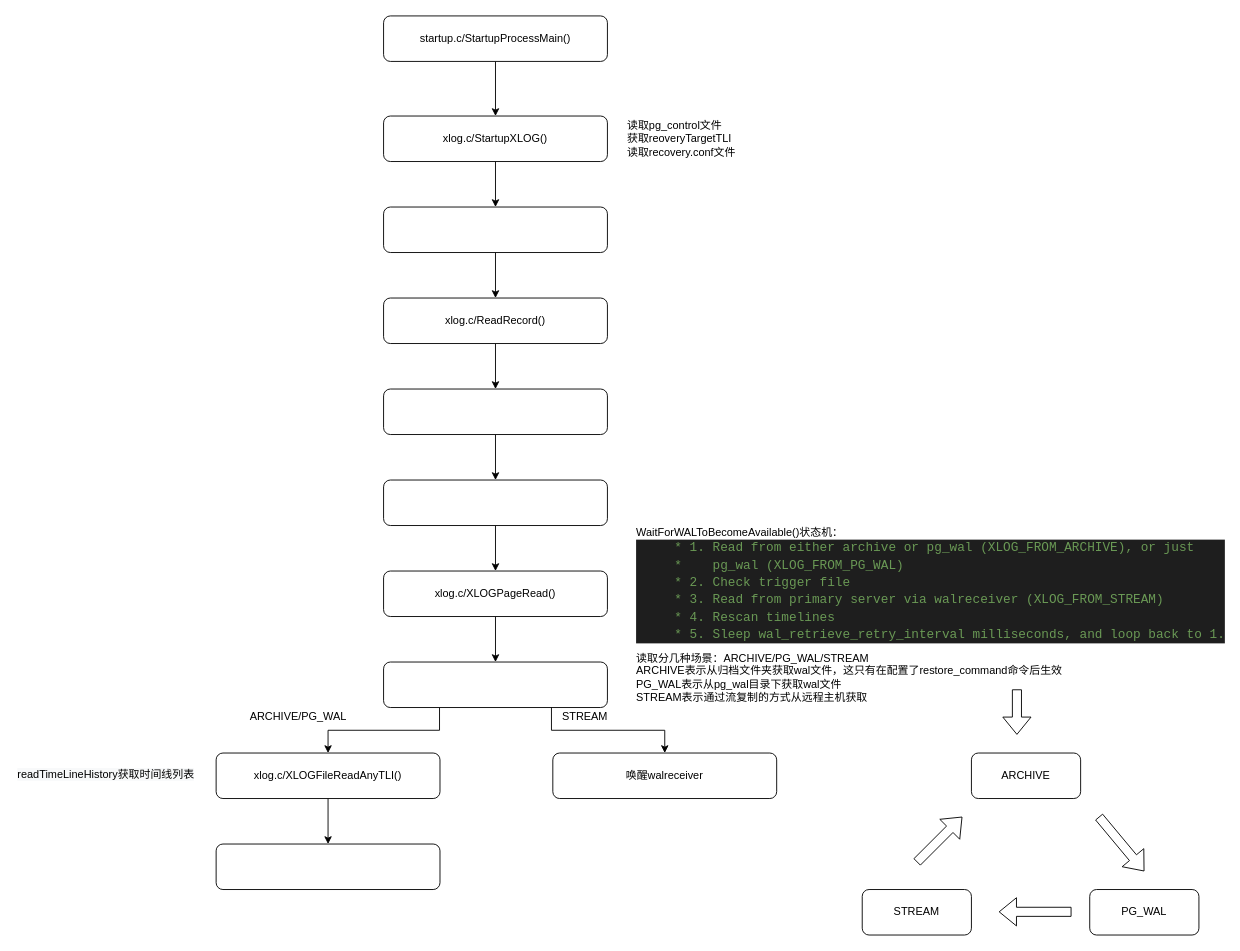
The diagram is 1240 pixels wide and 951 high, and some of its shapes have lost their labels. The shapes that lost their labels are listed below. From the top down, each one's centre as x and y in pixels, then its label:
point (495, 229): xlog.c/ReadCheckpointRecord()
point (495, 411): xlog.c/XLOGReadRecord()
point (495, 502): xlog.c/ReadPageInternal()
point (495, 684): xlog.c/WaitForWALToBecomeAvailable()
point (327, 866): xlog.c/XLOGFileRead()
